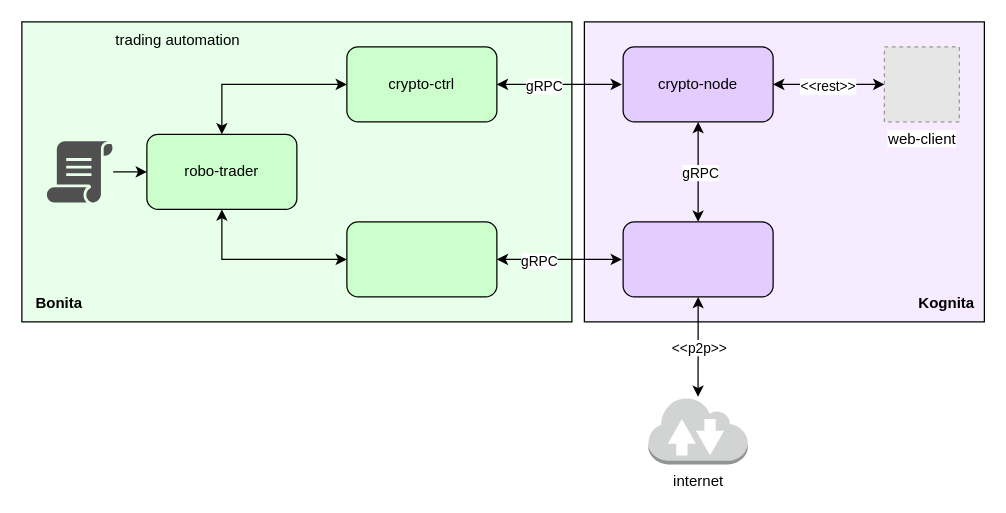
Image size: 1006x513. Some labels were removed from this diagram. Grey dashed boxes stand in for pictures. The box of each missing label's shape, as (x1, y1, x2, y2) in pixels:
p2p-ctrl: (346, 221, 497, 297)
p2p-node: (622, 221, 773, 297)
trading policies: (46, 141, 112, 202)
